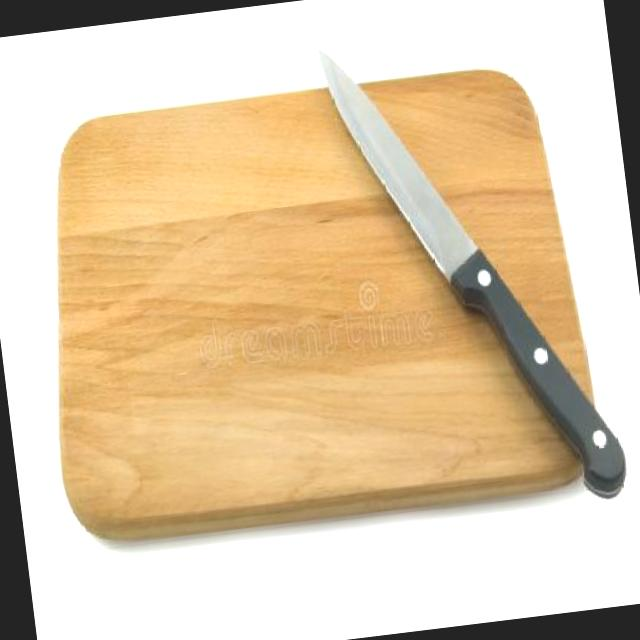knife: (291, 19, 515, 352)
